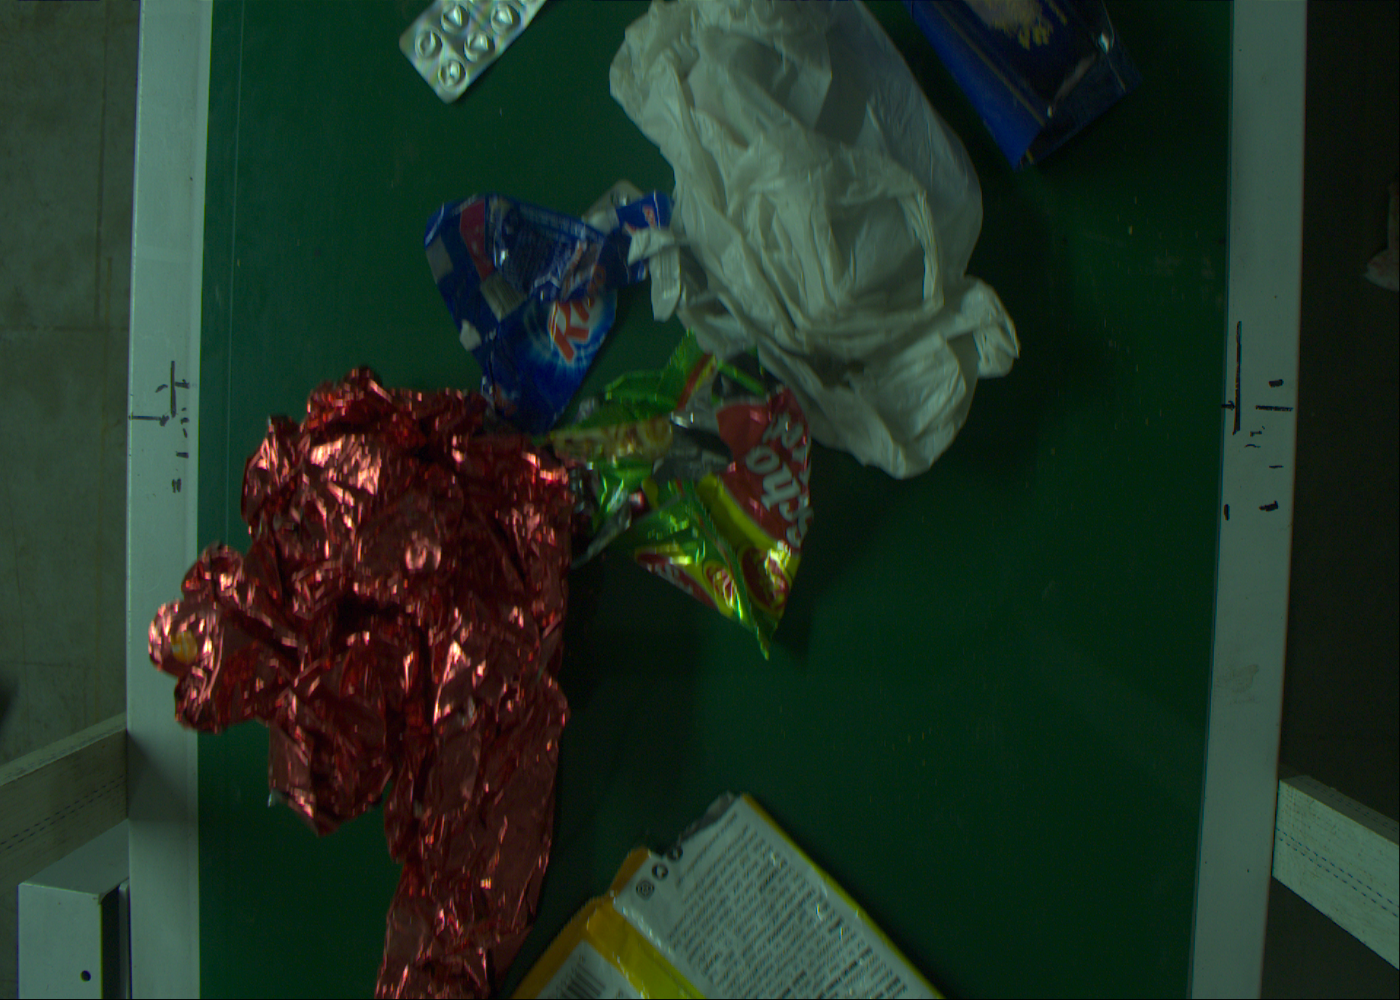hm_ldpe: (618, 10, 986, 408)
multilayer_plastic: (579, 797, 1011, 999), (562, 366, 828, 656)
pp_w: (146, 351, 577, 994), (421, 190, 670, 396)
